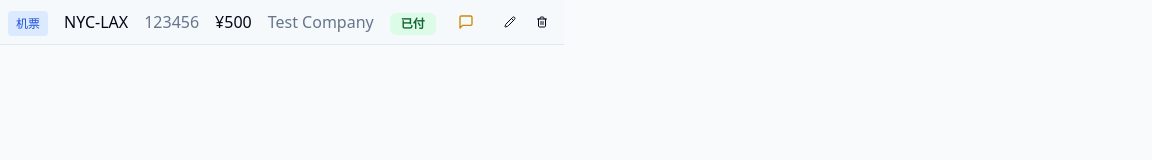
Test case: OrderItemRow - Payment Status Feature › Edit Mode - Payment Checkbox › should have checkbox checked for paid items in edit mode
Click the 2nd button. click: [510, 22]
box: [496,8,524,36]
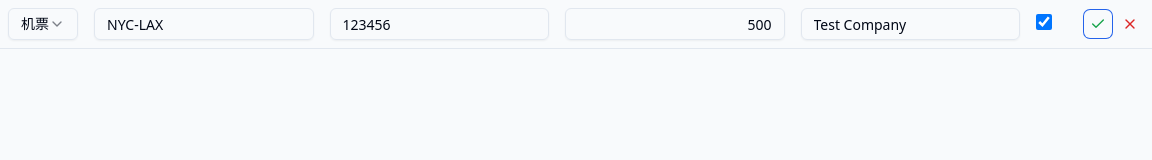
Check: the checkbox is checked, box [1036,14,1052,30]
